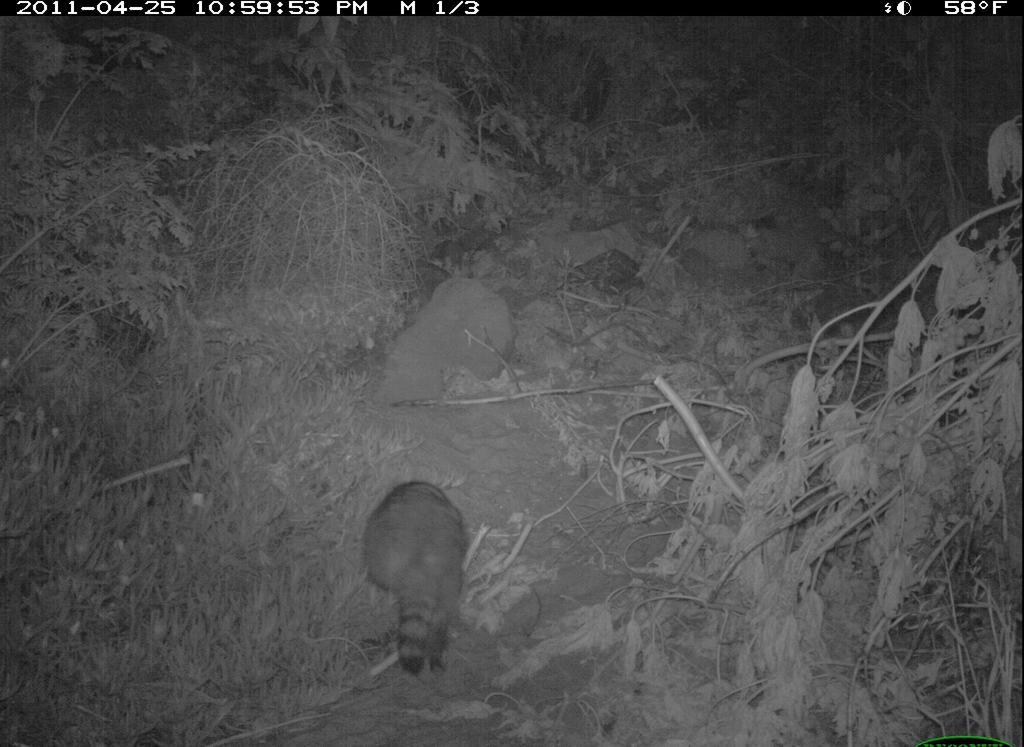raccoon: (347, 473, 481, 685)
